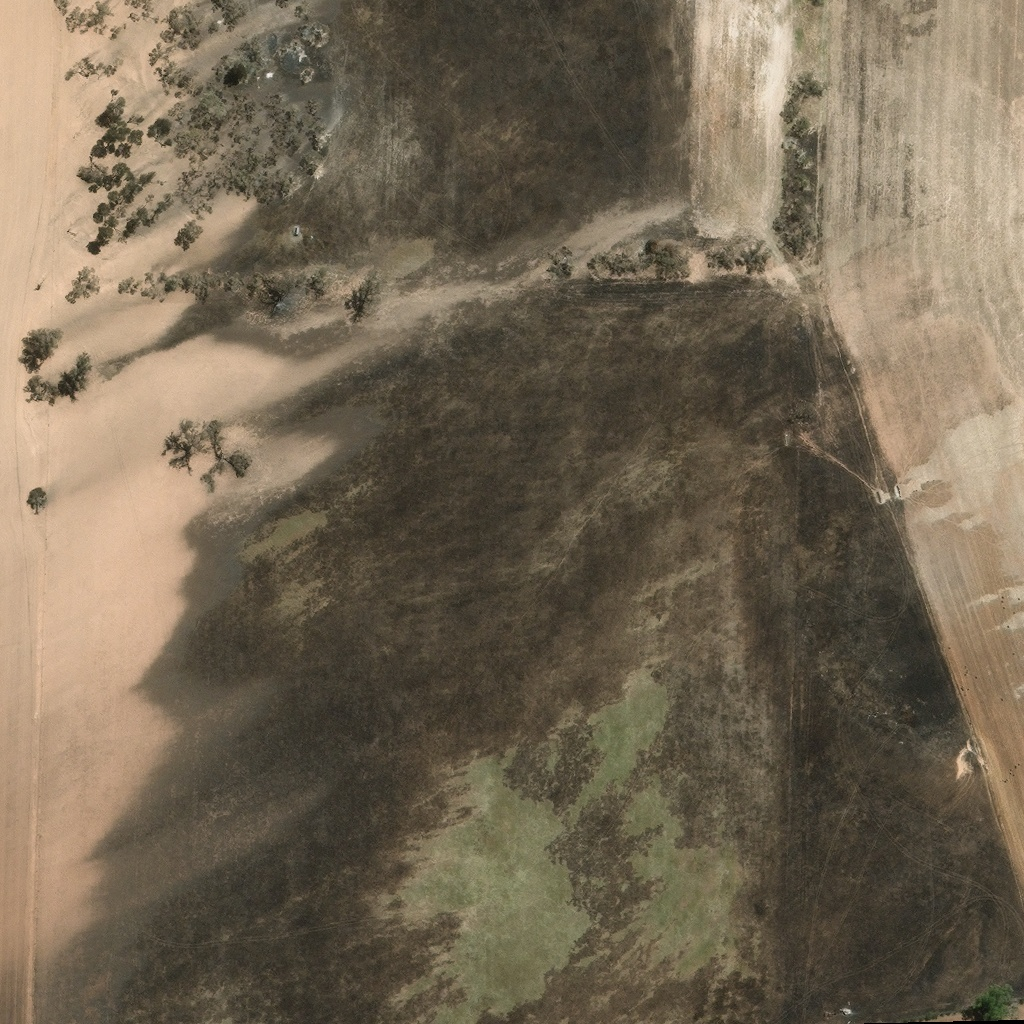3 destroyed: (839, 1009, 851, 1016)
